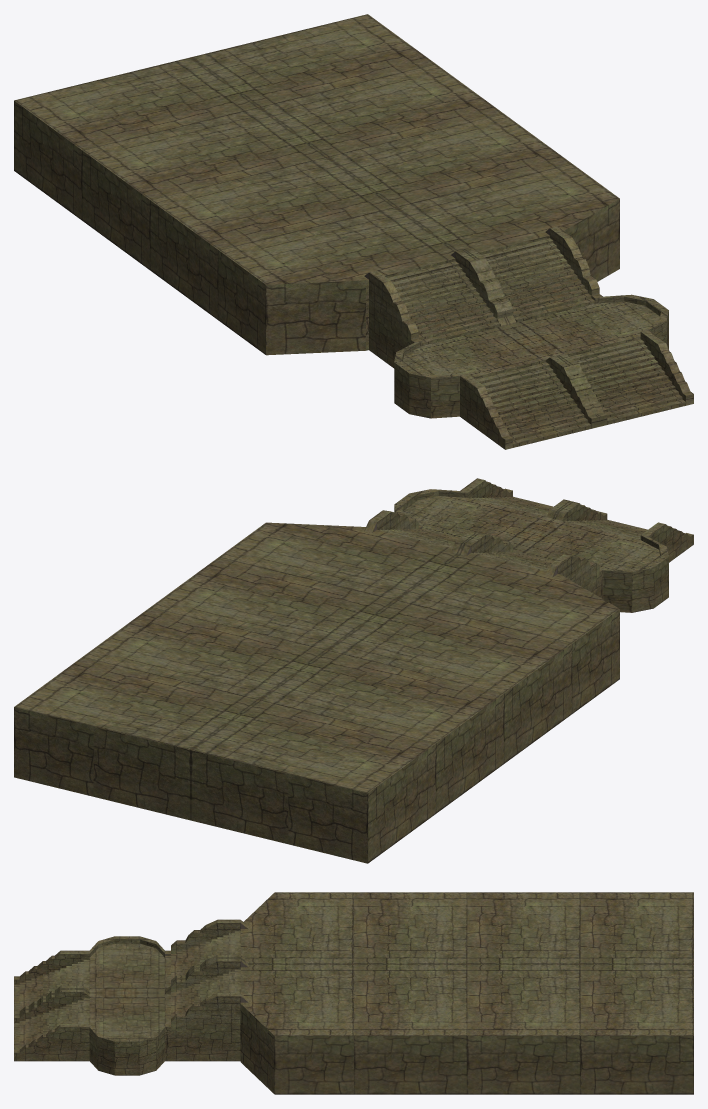
Rendered from Temple_Platform_1.fbx.
3 views of the same model, one above another, from view 1: azimuth 30°, elevation 25°; view 2: azimuth 150°, elevation 25°; view 3: azimuth 270°, elevation 25° (orthographic). The views are drawn at different scales.
Visible parts, largest first — view 1: Cube; view 2: Cube; view 3: Cube.
Boxes of the visible parts, x1=… form: Cube: x1=14, y1=14, x2=693, y2=449; Cube: x1=14, y1=478, x2=693, y2=863; Cube: x1=14, y1=892, x2=693, y2=1094.
Size of the model in its own units: 30 by 6.3 by 60.
